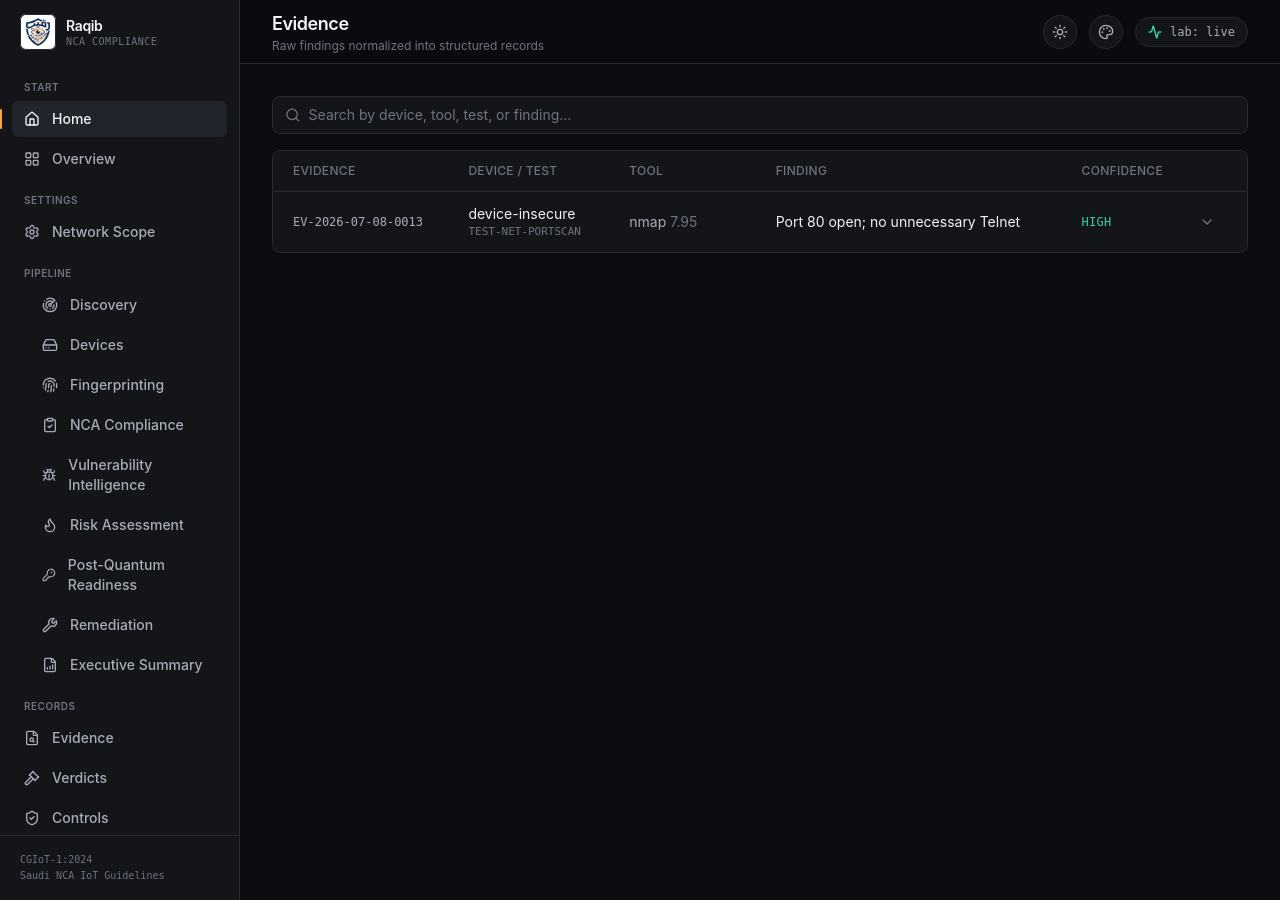
Test case: EvidencePage › expands a row to reveal the raw command
Click the text "EV-2026-07-08-0013" at (358, 222), box [293,215,423,229]
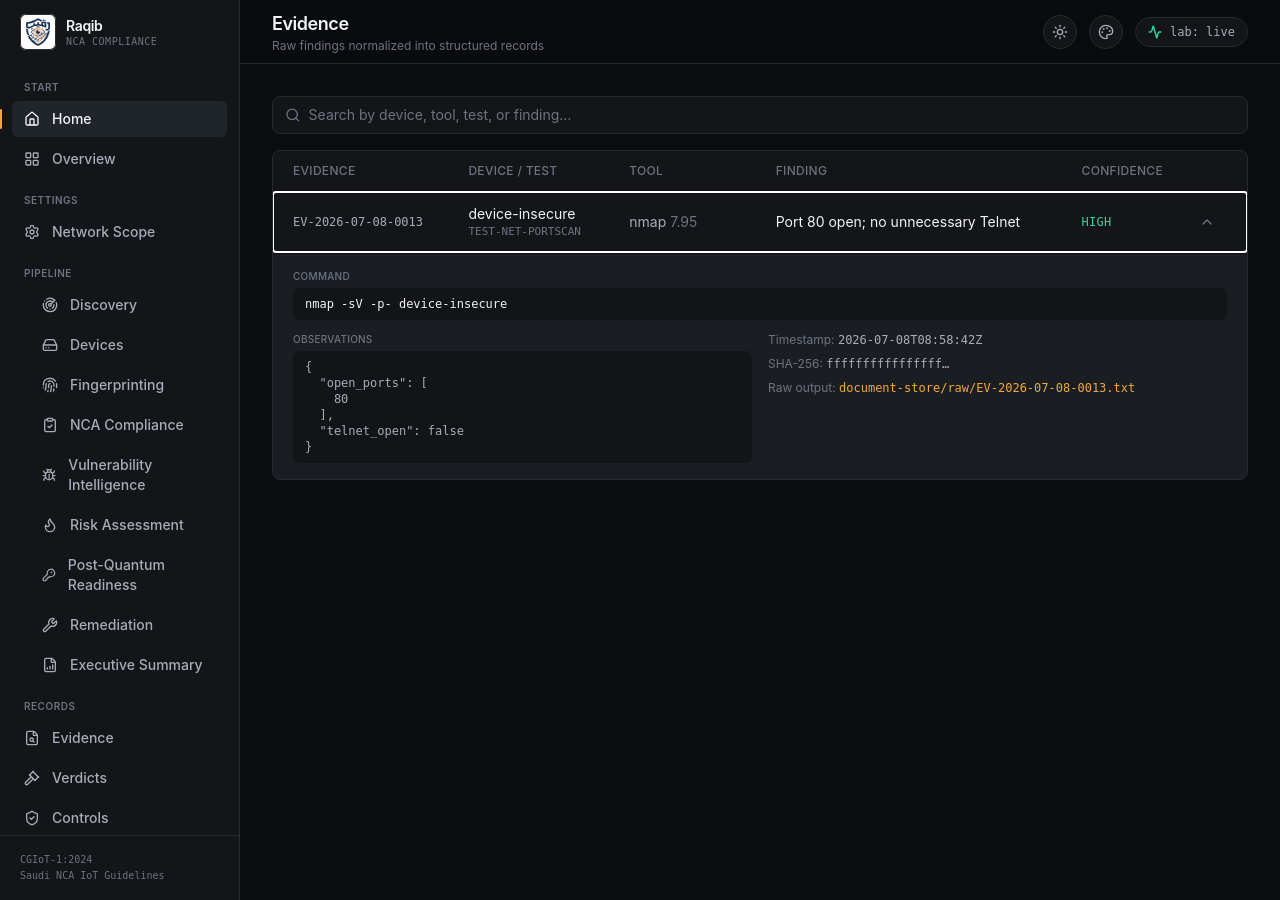
Check: the text "nmap -sV -p- device-insecure" is shown, box [293,288,1227,320]
